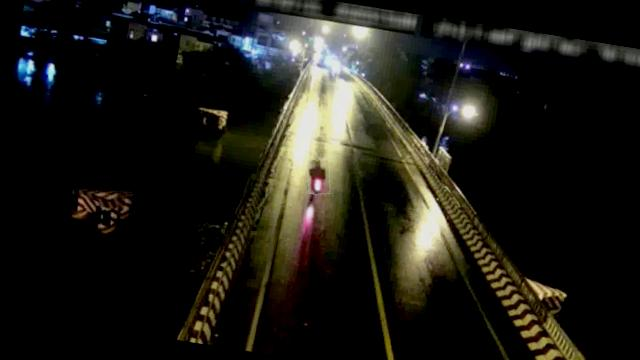Bike: (304, 157, 333, 196)
